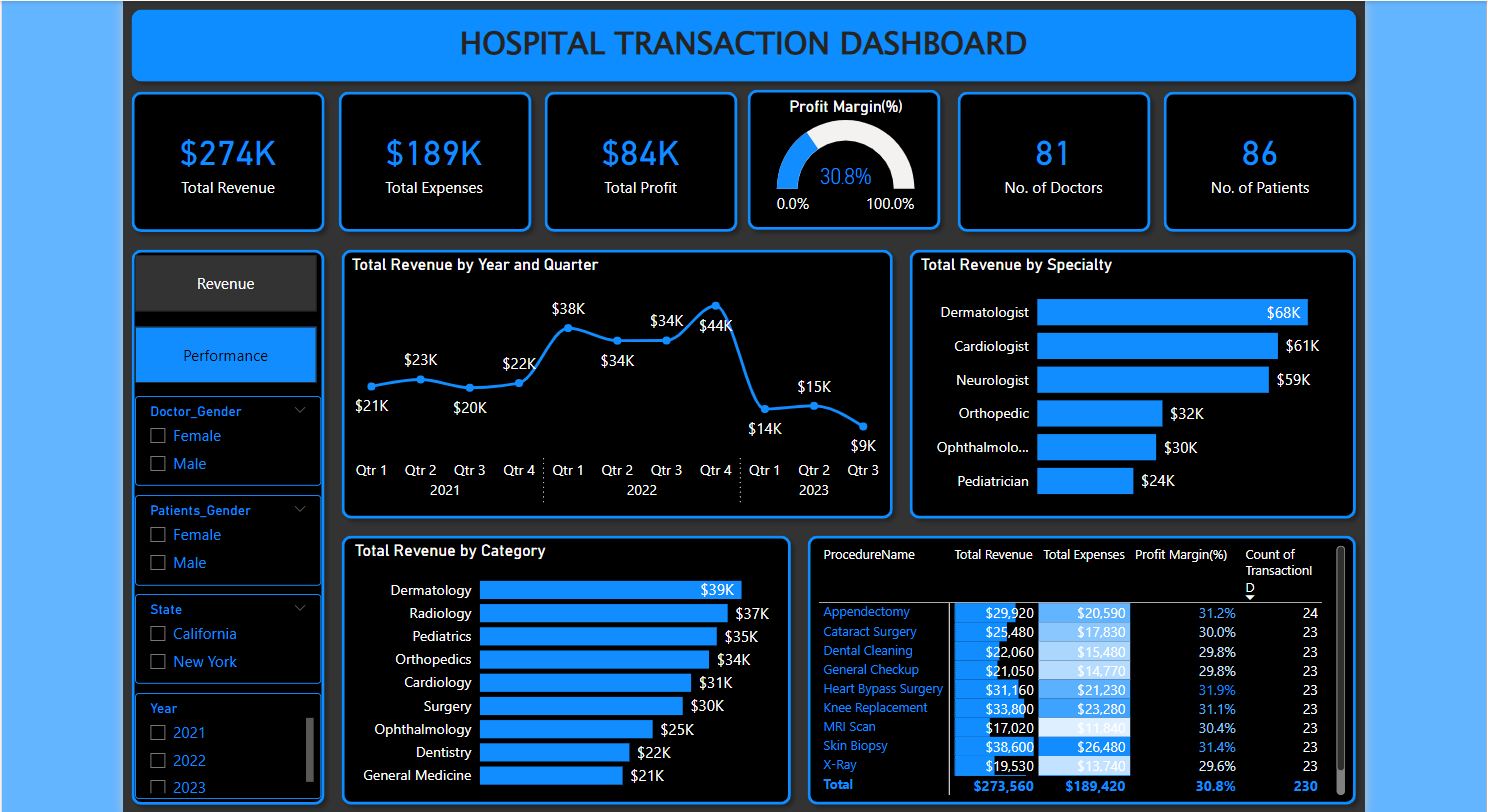

The dashboard page shown, as its layout file describes it:
{"tool":"powerbi","page":{"name":"Performance","canvas":[1300,850],"ordinal":1},"visuals":[{"type":"shape","box":[0,0,1299.9,86],"z":0},{"type":"shape","box":[0,86,220,165],"z":1000},{"type":"shape","box":[860.4,86,219.8,164.8],"z":2000},{"type":"shape","box":[648.2,86.1,219.8,164.8],"z":3000},{"type":"shape","box":[428.1,86,219.8,164.8],"z":4000},{"type":"shape","box":[212.5,86,219.8,164.8],"z":5000},{"type":"shape","box":[1080.1,86.1,219.8,164.8],"z":6000},{"type":"shape","box":[0,250.9,219.8,599.1],"z":7000},{"type":"shape","box":[219.8,250.9,595,337.9],"z":8000},{"type":"shape","box":[814.8,461.3,485.1,388.7],"z":9000},{"type":"shape","box":[814.8,250.9,485.1,221.8],"z":10000},{"type":"shape","box":[219.8,576.3,595,273.7],"z":11000},{"type":"card","fields":{"Values":["Calculated Measure.Total Revenue"]},"box":[12.4,100.5,194.9,132.7],"z":12000},{"type":"card","fields":{"Values":["Patient Dim.PatientID"]},"box":[1095.7,100.5,188.7,132.7],"z":13000},{"type":"card","fields":{"Values":["Doctors Dim.DoctorID"]},"box":[880.1,100.5,187.6,132.7],"z":14000},{"type":"gauge","fields":{"Y":["Calculated Measure.Profit Margin(%)"]},"box":[664.5,100.5,183.5,132.7],"z":15000},{"type":"card","fields":{"Values":["Calculated Measure.Total Profit"]},"box":[443.7,100.5,187.6,132.7],"z":16000},{"type":"card","fields":{"Values":["Calculated Measure.Total Expenses"]},"box":[227,100.5,190.7,132.7],"z":17000},{"type":"clusteredBarChart","title":"Top 5 Doctors by Total Revenue ","fields":{"Y":["Calculated Measure.Total Revenue"],"Category":["Doctors Dim.Doctors Name"]},"box":[234.3,266.4,283,309.9],"z":18000},{"type":"lineChart","fields":{"Y":["Hospital Transactions (Fact Table).PatientID"],"Category":["Calender Dim.Date.Variation.Date Hierarchy.Year","Calender Dim.Date.Variation.Date Hierarchy.Quarter","Calender Dim.Date.Variation.Date Hierarchy.Month"]},"box":[234.3,588.8,566,246.7],"z":19000},{"type":"slicer","fields":{"Values":["Doctors Dim.Doctor_Gender"]},"box":[12.4,413.6,194.9,94.3],"z":20000},{"type":"slicer","fields":{"Values":["Patient Dim.Patients_Gender"]},"box":[12.4,516.9,194.9,95.4],"z":21000},{"type":"slicer","fields":{"Values":["Location Dim.State"]},"box":[12.4,621.3,194.9,94.3],"z":22000},{"type":"clusteredBarChart","title":"Top 5 Patients by Total Revenue","fields":{"Y":["Calculated Measure.Total Revenue"],"Category":["Patient Dim.Patients Name"]},"box":[517.3,266.4,283,309.9],"z":23000},{"type":"clusteredBarChart","title":"No. of Patient and Doctors by Specialty","fields":{"Category":["Doctors Dim.Specialty"],"Y":["Hospital Transactions (Fact Table).PatientID","Hospital Transactions (Fact Table).DoctorID"]},"box":[832.4,501.7,452,329.6],"z":24000},{"type":"multiRowCard","fields":{"Values":["Doctors Dim.Doctor_Gender","Doctors Dim.Doctor_Gender"]},"box":[832.4,266.4,224.9,194.9],"z":25000},{"type":"multiRowCard","fields":{"Values":["Patient Dim.Patients_Gender","Patient Dim.Patients_Gender"]},"box":[1059.4,266.4,224.9,194.9],"z":26000},{"type":"textbox","box":[290.2,12.4,719.4,62.2],"z":27000},{"type":"pageNavigator","box":[12.4,265.4,190.7,135.8],"z":28000},{"type":"slicer","fields":{"Values":["Calender Dim.Date.Variation.Date Hierarchy.Year"]},"box":[12.4,724.6,194.9,110.9],"z":29000}]}

Visuals, with their boxes on the page's 1300x850 design canvas (x1, y1, x2, y2). These are canvas units, not pixel positions in the 1488x812 screenshot, which may show the page scaled, cropped or inside an application window:
shape: {"left": 0, "top": 0, "right": 1300, "bottom": 86}
shape: {"left": 0, "top": 86, "right": 220, "bottom": 251}
shape: {"left": 860, "top": 86, "right": 1080, "bottom": 251}
shape: {"left": 648, "top": 86, "right": 868, "bottom": 251}
shape: {"left": 428, "top": 86, "right": 648, "bottom": 251}
shape: {"left": 212, "top": 86, "right": 432, "bottom": 251}
shape: {"left": 1080, "top": 86, "right": 1300, "bottom": 251}
shape: {"left": 0, "top": 251, "right": 220, "bottom": 850}
shape: {"left": 220, "top": 251, "right": 815, "bottom": 589}
shape: {"left": 815, "top": 461, "right": 1300, "bottom": 850}
shape: {"left": 815, "top": 251, "right": 1300, "bottom": 473}
shape: {"left": 220, "top": 576, "right": 815, "bottom": 850}
card - Calculated Measure.Total Revenue: {"left": 12, "top": 100, "right": 207, "bottom": 233}
card - Patient Dim.PatientID: {"left": 1096, "top": 100, "right": 1284, "bottom": 233}
card - Doctors Dim.DoctorID: {"left": 880, "top": 100, "right": 1068, "bottom": 233}
gauge - Calculated Measure.Profit Margin(%): {"left": 664, "top": 100, "right": 848, "bottom": 233}
card - Calculated Measure.Total Profit: {"left": 444, "top": 100, "right": 631, "bottom": 233}
card - Calculated Measure.Total Expenses: {"left": 227, "top": 100, "right": 418, "bottom": 233}
"Top 5 Doctors by Total Revenue " clusteredBarChart: {"left": 234, "top": 266, "right": 517, "bottom": 576}
lineChart - Hospital Transactions (Fact Table).PatientID x Calender Dim.Date.Variation.Date Hierarchy.Year: {"left": 234, "top": 589, "right": 800, "bottom": 836}
slicer - Doctors Dim.Doctor_Gender: {"left": 12, "top": 414, "right": 207, "bottom": 508}
slicer - Patient Dim.Patients_Gender: {"left": 12, "top": 517, "right": 207, "bottom": 612}
slicer - Location Dim.State: {"left": 12, "top": 621, "right": 207, "bottom": 716}
"Top 5 Patients by Total Revenue" clusteredBarChart: {"left": 517, "top": 266, "right": 800, "bottom": 576}
"No. of Patient and Doctors by Specialty" clusteredBarChart: {"left": 832, "top": 502, "right": 1284, "bottom": 831}
multiRowCard - Doctors Dim.Doctor_Gender x Doctors Dim.Doctor_Gender: {"left": 832, "top": 266, "right": 1057, "bottom": 461}
multiRowCard - Patient Dim.Patients_Gender x Patient Dim.Patients_Gender: {"left": 1059, "top": 266, "right": 1284, "bottom": 461}
textbox: {"left": 290, "top": 12, "right": 1010, "bottom": 75}
pageNavigator: {"left": 12, "top": 265, "right": 203, "bottom": 401}
slicer - Calender Dim.Date.Variation.Date Hierarchy.Year: {"left": 12, "top": 725, "right": 207, "bottom": 836}
